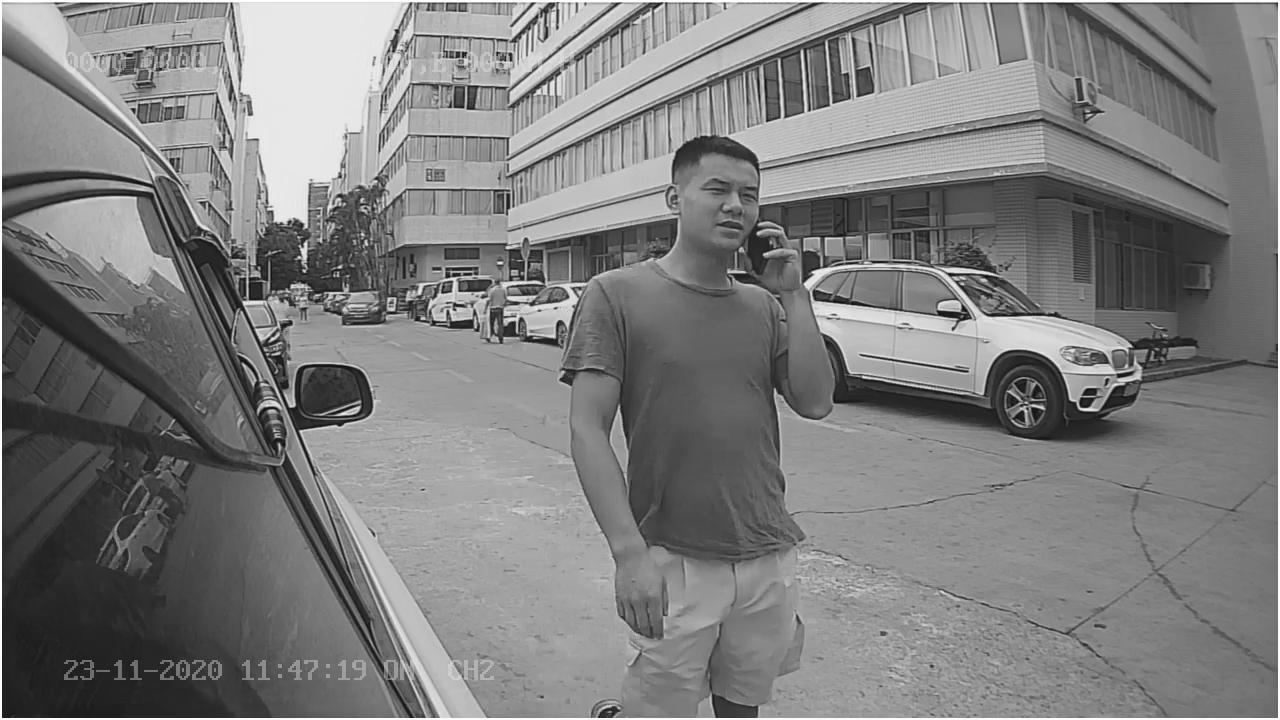person: (561, 113, 835, 637)
